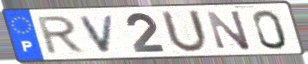0: (249, 8, 290, 51)
2: (125, 11, 169, 55)
N: (204, 8, 254, 51)
R: (35, 14, 88, 57)
U: (159, 9, 211, 55)
V: (77, 13, 118, 54)
